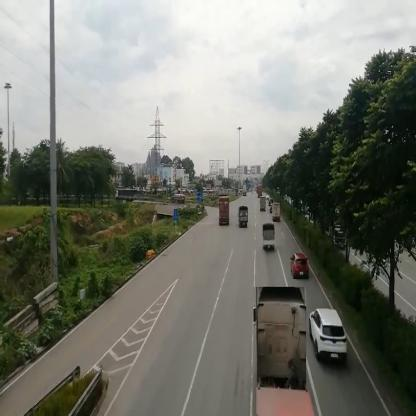car: (312, 305, 350, 360), (291, 254, 310, 281)
container: (254, 288, 307, 416), (220, 196, 231, 228)
truck: (263, 223, 278, 251), (117, 189, 135, 204), (240, 207, 249, 230), (273, 204, 281, 219), (261, 198, 267, 213)
